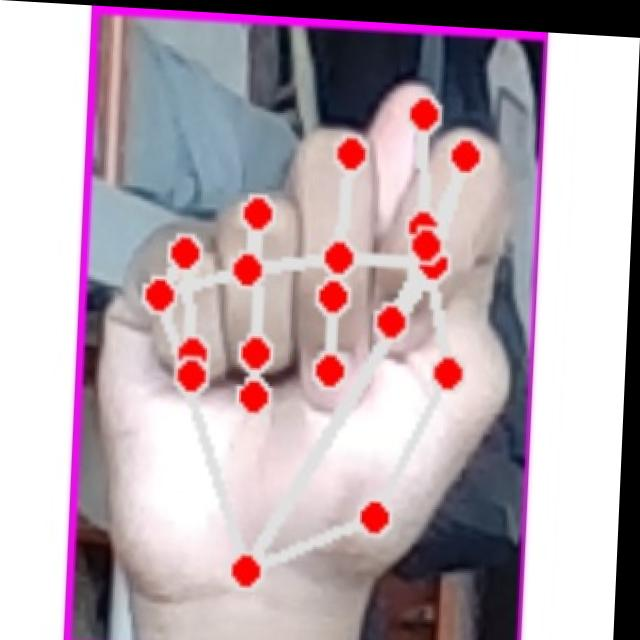T: (88, 65, 518, 612)
